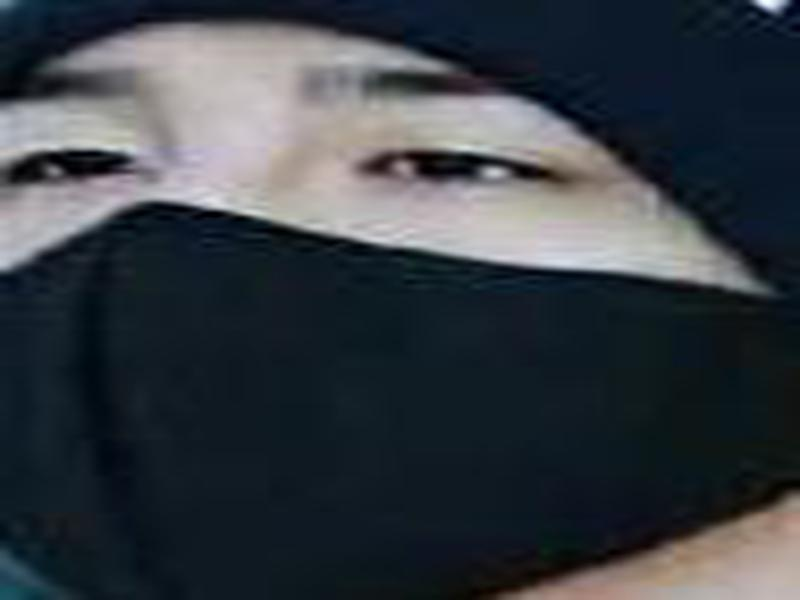with_mask: (1, 28, 797, 600)
